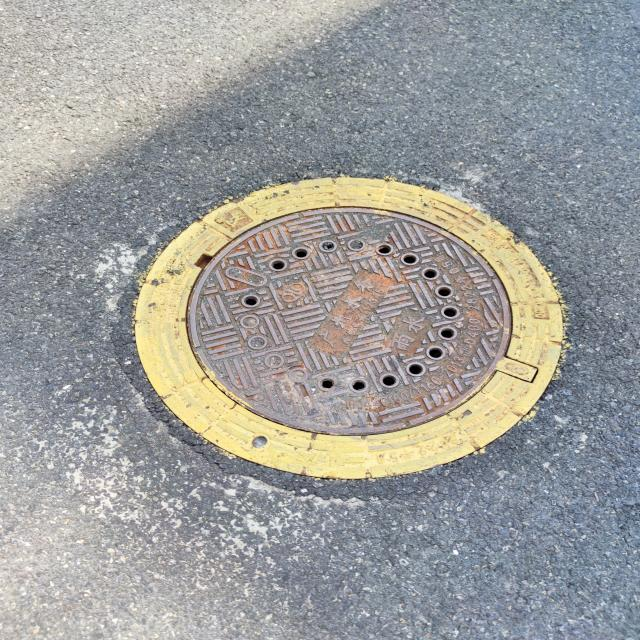Good: (128, 175, 570, 484)
